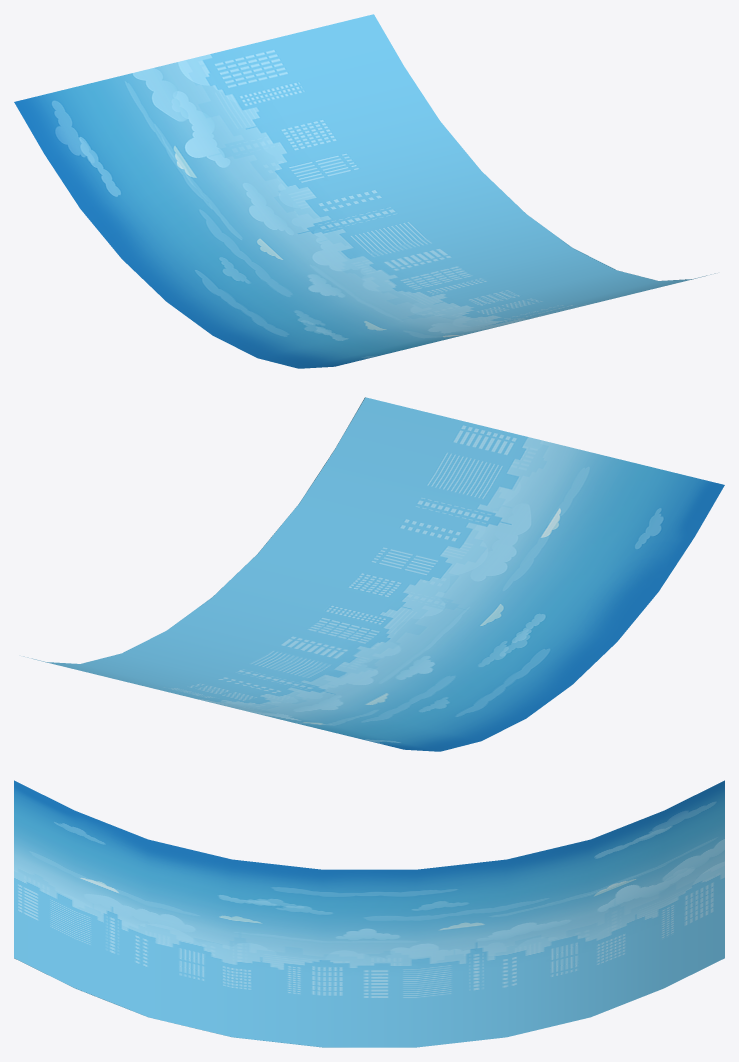
Rendered from skybox_city.fbx.
3 views of the same model, one above another, from view 1: azimuth 30°, elevation 25°; view 2: azimuth 150°, elevation 25°; view 3: azimuth 270°, elevation 25° (orthographic).
Parts seen in each view (by area): view 1: Plane; view 2: Plane; view 3: Plane.
Part boxes in pixels (bbox=[...]): Plane: bbox=[14, 14, 715, 368]; Plane: bbox=[23, 397, 724, 751]; Plane: bbox=[14, 780, 724, 1047].
Bounding box in the file's own units: 200 × 46.84 × 338.
